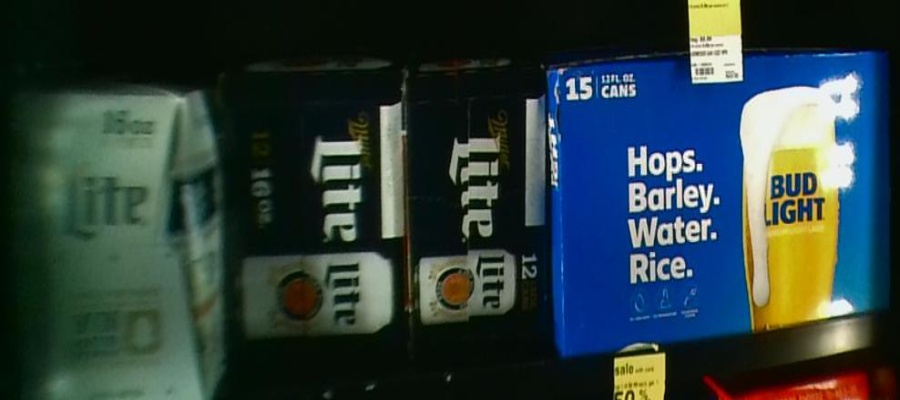bottle: (555, 54, 890, 330), (5, 88, 228, 393), (230, 72, 407, 362), (406, 66, 548, 338)
